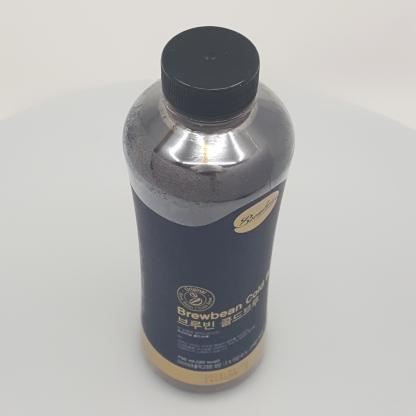-------------: (122, 26, 295, 394)
